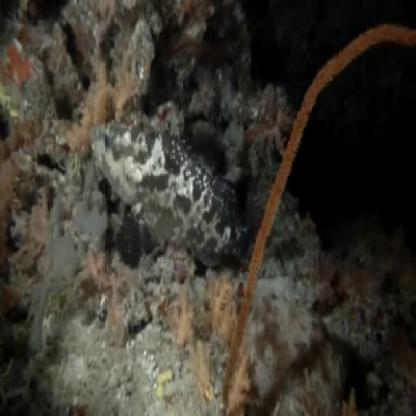Serranidae -Groupers-: (88, 117, 256, 273)
